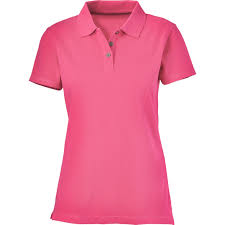C_polo shirt: (30, 6, 199, 225)
